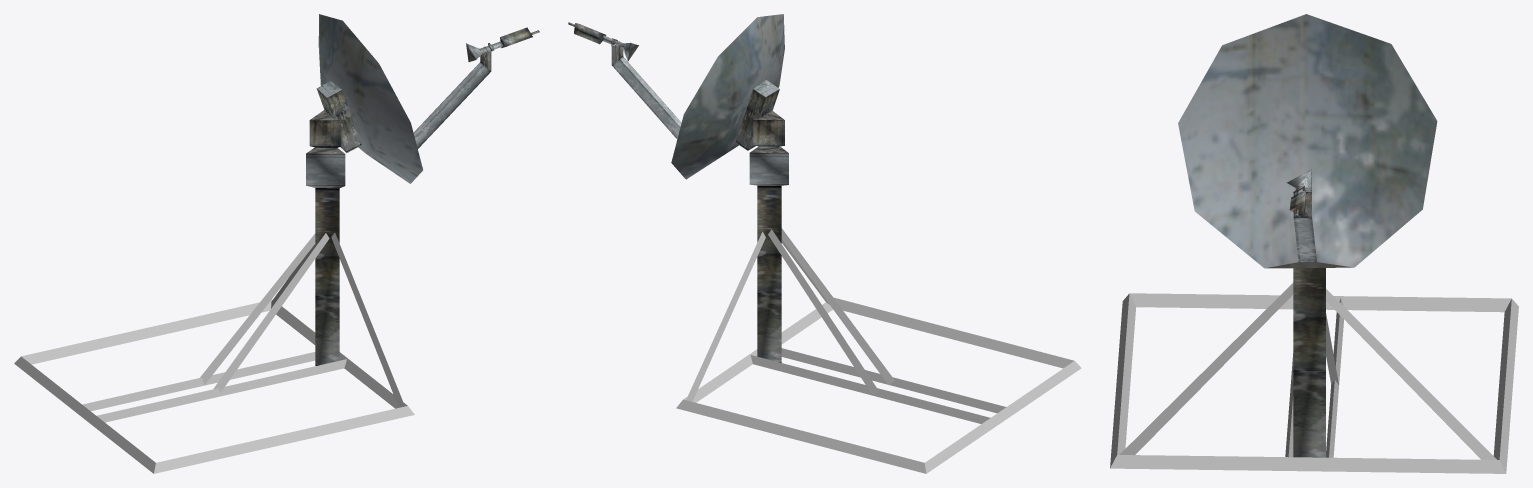
The model's file is Dish_3.fbx.
3 views of the same model, side by side, from view 1: azimuth 30°, elevation 25°; view 2: azimuth 150°, elevation 25°; view 3: azimuth 270°, elevation 25° (orthographic). The views are drawn at different scales.
Parts seen in each view (by area): view 1: Dish_3; view 2: Dish_3; view 3: Dish_3.
Boxes of the visible parts, left/top/right/bottom form: Dish_3: left=14, top=14, right=539, bottom=473; Dish_3: left=568, top=14, right=1081, bottom=473; Dish_3: left=1110, top=14, right=1518, bottom=473.
Size of the model in its own units: 191 by 138 by 112.
